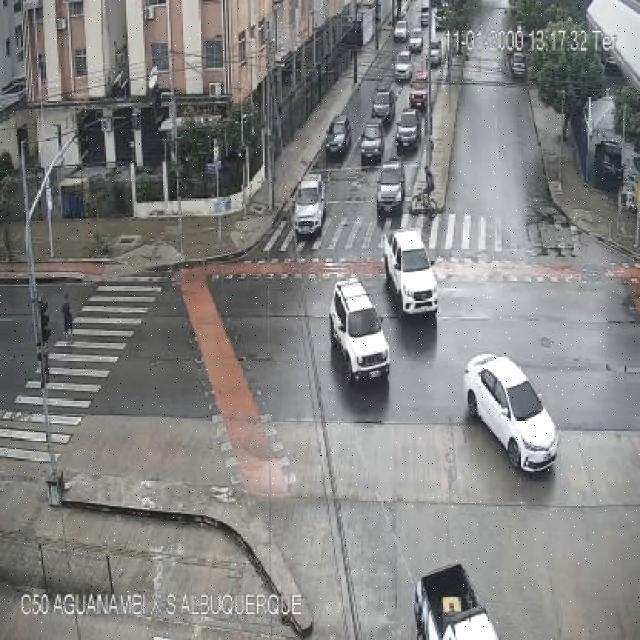Car: (466, 354, 559, 472), (412, 562, 500, 638), (329, 279, 391, 381), (386, 226, 438, 320), (292, 174, 328, 238), (376, 162, 406, 213), (324, 116, 352, 158), (395, 109, 421, 151), (359, 123, 385, 162), (371, 89, 396, 119), (408, 79, 428, 109), (393, 51, 413, 80), (509, 50, 528, 78), (428, 42, 442, 66), (408, 32, 423, 53), (394, 20, 408, 42), (420, 5, 430, 28)
Cycle: (405, 164, 452, 222)
